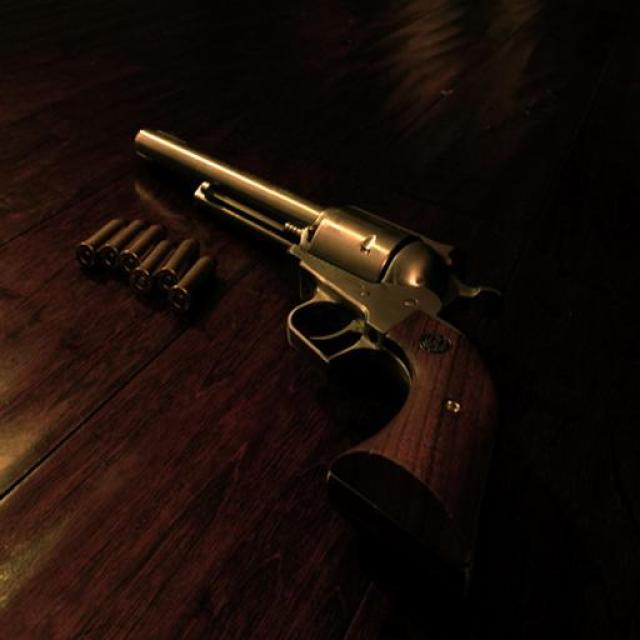pistol: (130, 121, 494, 595)
